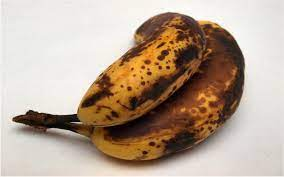looks_defective: (55, 3, 264, 166)
